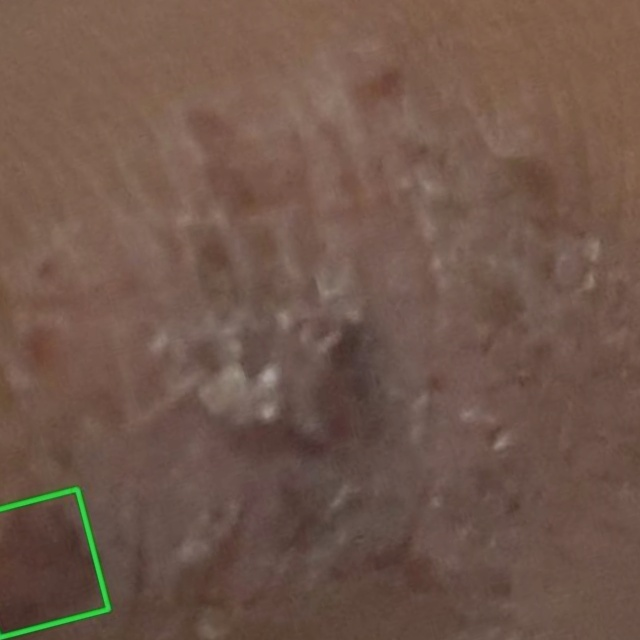Contact Dermatitis: (0, 488, 108, 637)
